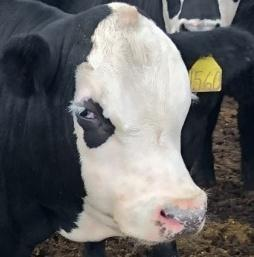muzzles: (141, 194, 212, 243)
